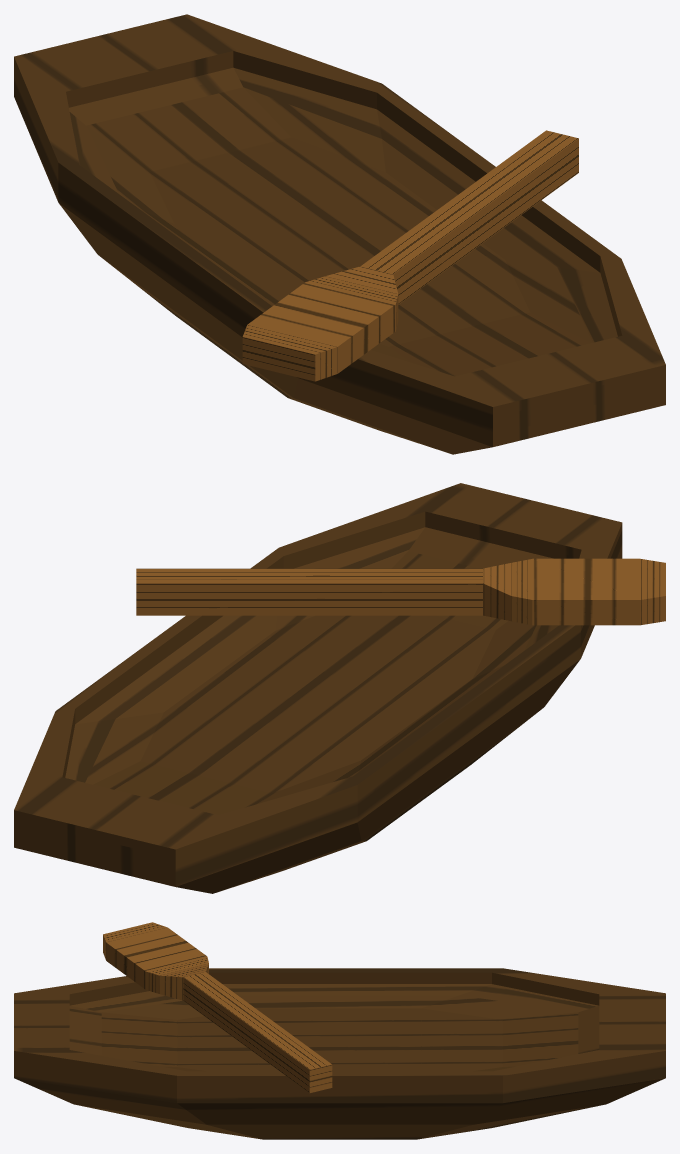
File: Boat.fbx
3 renders of one model, top to bottom at view 1: azimuth 30°, elevation 25°; view 2: azimuth 150°, elevation 25°; view 3: azimuth 270°, elevation 25°, orthographic. The views are drawn at different scales.
Visible parts, largest first — view 1: Boat, wood; view 2: Boat, wood; view 3: Boat, wood.
Boxes of the visible parts, x1,y1,x2,y2 form: Boat: (14, 14, 665, 454); wood: (242, 130, 578, 381); Boat: (14, 483, 622, 893); wood: (136, 558, 665, 625); Boat: (14, 968, 665, 1139); wood: (103, 922, 332, 1092).
Bounding box in the file's own units: 329 × 108 × 604.
1 material, 1 textured.
